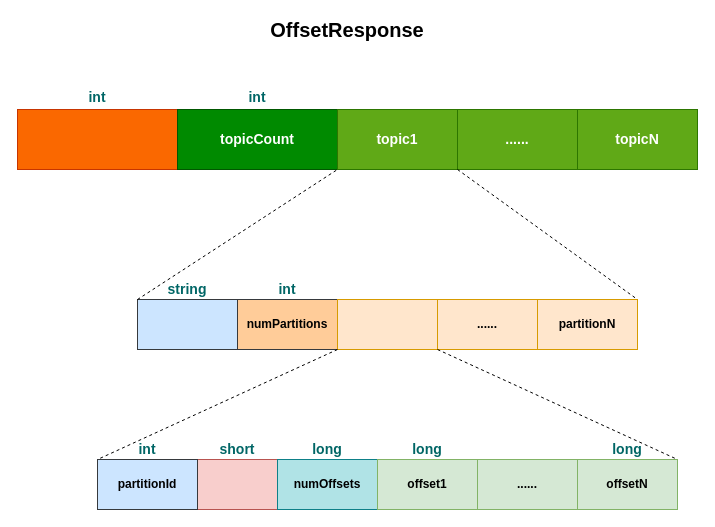
Some shapes in this 715 by 527 pixel diagram are drawn without their labels. The centre of each missing label's shape, as x and y in pixels:
correlationId: point (97, 139)
errorCode: point (237, 484)
partition1: point (387, 324)
topicName: point (187, 324)
